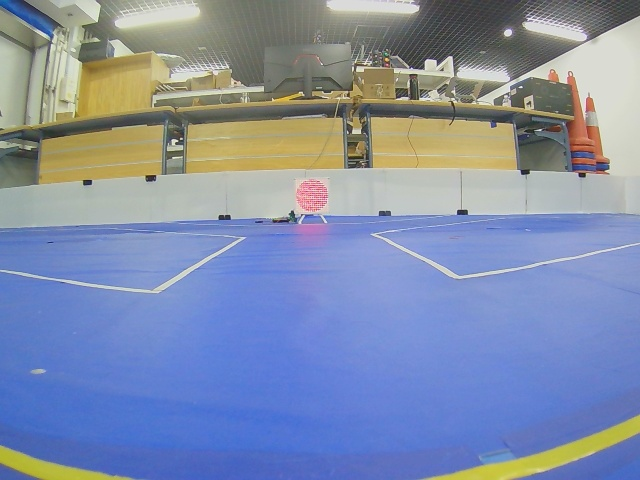red: (296, 179, 328, 213)
